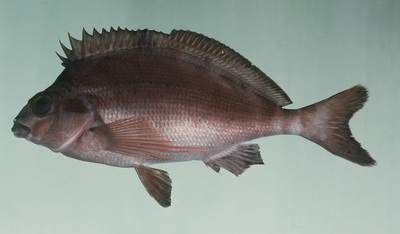fish: (12, 26, 378, 208)
